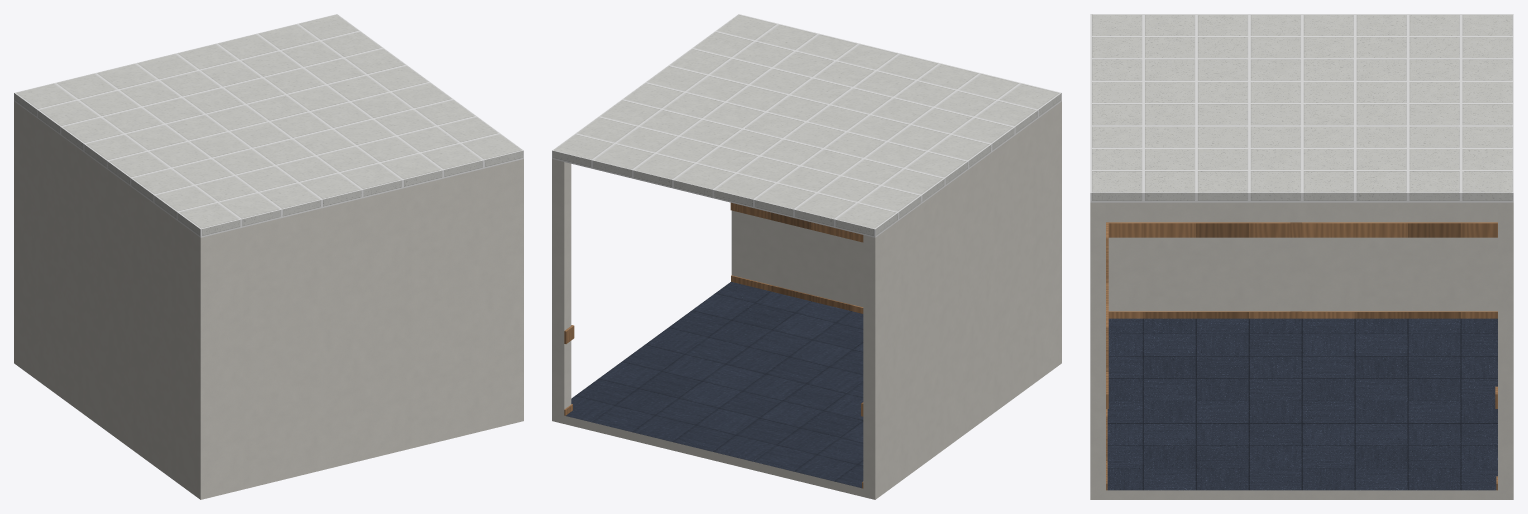
Rendered from Corridor_Office_Corner.glb.
3 views of the same model, side by side, from view 1: azimuth 30°, elevation 25°; view 2: azimuth 150°, elevation 25°; view 3: azimuth 270°, elevation 25° (orthographic). The views are drawn at different scales.
Parts seen in each view (by area): view 1: Corridor_Office_Corner, Corridor_Office_Corner_Ceiling; view 2: Corridor_Office_Corner, Corridor_Office_Corner_Ceiling; view 3: Corridor_Office_Corner, Corridor_Office_Corner_Ceiling.
Part boxes in pixels (x1,y1,x2,y2): Corridor_Office_Corner: (14,101,523,499); Corridor_Office_Corner_Ceiling: (14,14,523,237); Corridor_Office_Corner: (552,101,1061,499); Corridor_Office_Corner_Ceiling: (552,14,1061,237); Corridor_Office_Corner: (1090,202,1513,499); Corridor_Office_Corner_Ceiling: (1090,14,1513,202).
Bounding box in the file's own units: 4 × 3.2 × 4.
6 materials, 4 textured.
